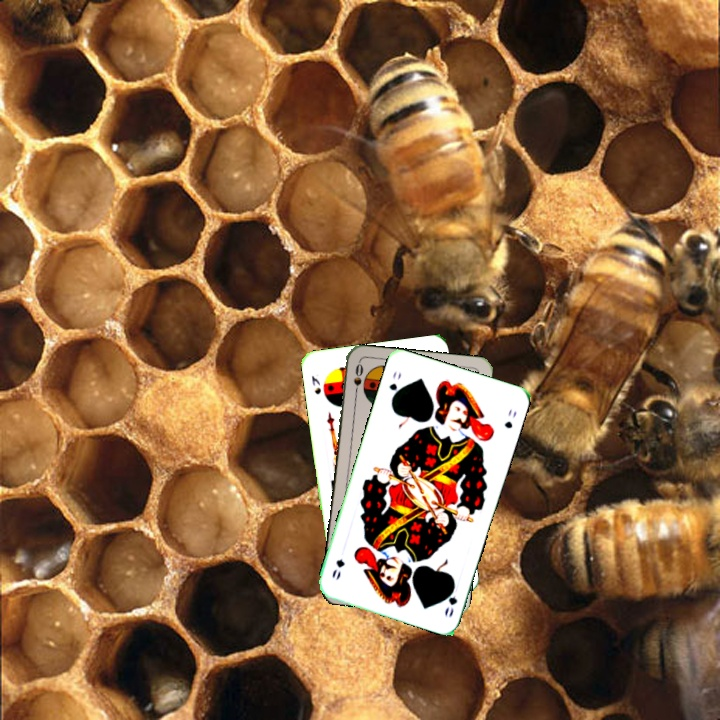GO: (441, 579, 460, 620), (385, 367, 404, 404)
SK: (307, 371, 323, 397)
SO: (350, 360, 366, 400)
